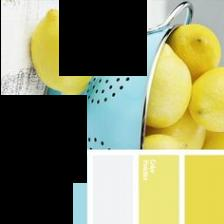yellow: (29, 9, 95, 96), (146, 44, 190, 128), (167, 25, 219, 82), (184, 157, 224, 224), (145, 109, 205, 149), (188, 67, 224, 131), (143, 135, 186, 149), (202, 131, 224, 149)
